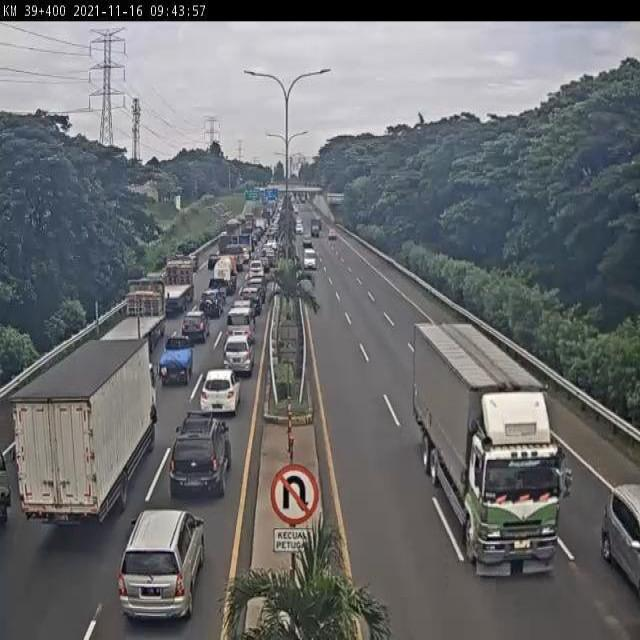car: (118, 508, 210, 623), (167, 416, 230, 501), (199, 368, 239, 421), (156, 333, 195, 387), (222, 335, 255, 380), (225, 308, 254, 348), (178, 312, 206, 345), (199, 291, 222, 321)
truck-l-: (414, 321, 574, 580), (89, 283, 163, 360), (151, 259, 193, 317)
truck-m-: (7, 338, 157, 530)
